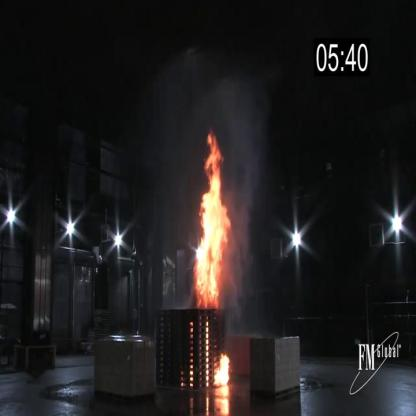fire: (192, 126, 226, 312), (213, 354, 231, 387)
